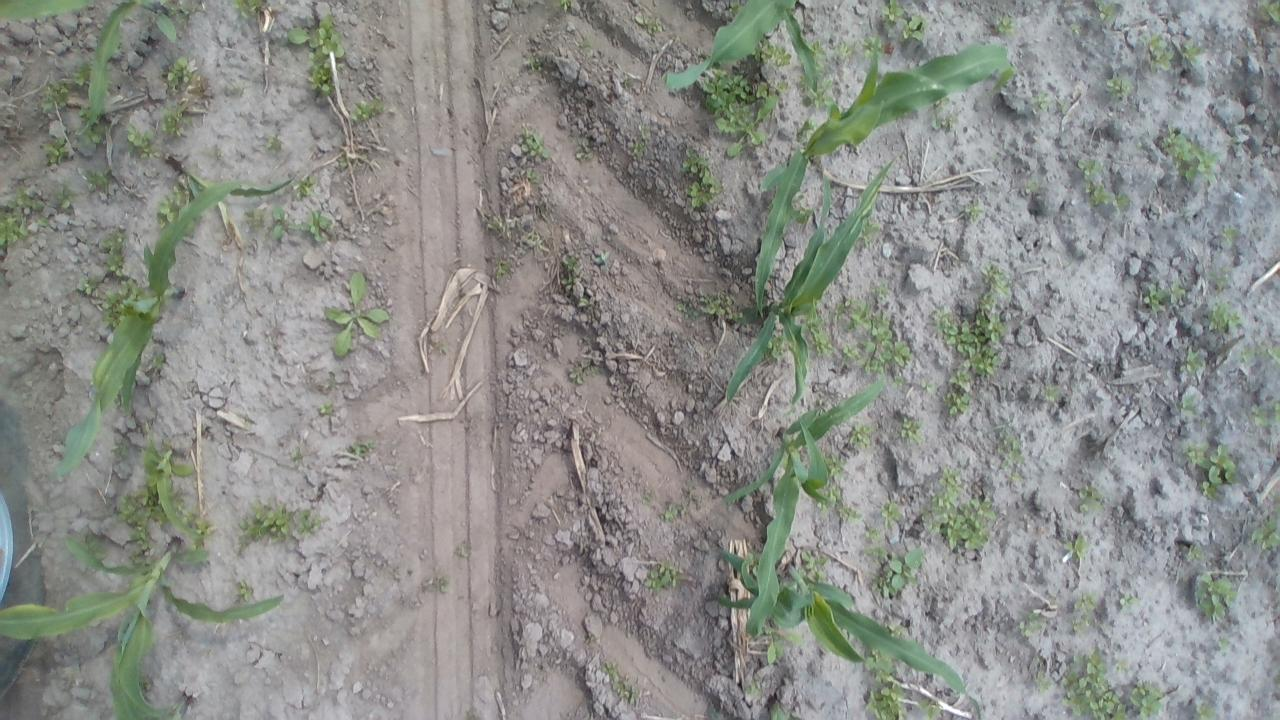Maize: (749, 42, 1014, 320), (58, 182, 293, 475), (708, 546, 982, 720), (0, 536, 286, 702), (724, 160, 896, 410), (720, 380, 885, 638), (0, 0, 178, 127), (662, 0, 824, 96), (166, 154, 247, 308), (146, 446, 203, 542), (114, 678, 194, 720)
Weeds: (934, 264, 1004, 414), (832, 282, 912, 374), (326, 272, 390, 360), (1064, 652, 1128, 719), (108, 491, 164, 562), (100, 227, 138, 321), (238, 502, 326, 539), (716, 103, 772, 158), (920, 467, 964, 533), (1162, 132, 1220, 182), (946, 499, 996, 553), (872, 548, 924, 598), (704, 70, 774, 106), (1078, 156, 1128, 206), (288, 15, 344, 58), (1194, 574, 1236, 626), (998, 422, 1029, 481), (676, 292, 736, 320), (1068, 592, 1102, 634), (805, 300, 831, 352), (1206, 444, 1238, 486), (684, 174, 722, 209), (827, 484, 863, 520), (866, 686, 902, 718), (932, 108, 969, 138), (154, 190, 183, 228), (766, 632, 800, 664), (0, 210, 29, 247), (1130, 683, 1163, 715), (1250, 518, 1279, 554), (309, 58, 335, 96), (799, 550, 830, 581), (83, 162, 113, 194), (271, 206, 299, 239), (38, 83, 69, 112), (1206, 304, 1240, 330), (805, 80, 834, 110), (1222, 225, 1244, 264), (646, 564, 676, 592), (300, 212, 328, 242), (1102, 71, 1130, 101), (755, 42, 791, 65), (125, 124, 154, 152), (1076, 483, 1104, 512), (568, 358, 600, 383), (864, 652, 891, 681), (1146, 36, 1172, 66), (1249, 401, 1280, 426), (523, 134, 549, 163), (352, 100, 384, 122), (558, 253, 575, 294), (160, 105, 184, 134), (1195, 150, 1224, 174), (1020, 611, 1046, 637), (41, 138, 66, 165), (245, 208, 269, 236), (680, 148, 708, 172), (861, 219, 882, 250), (848, 422, 874, 447), (1202, 268, 1230, 290), (900, 17, 925, 40), (1062, 534, 1088, 556), (898, 417, 924, 439), (1144, 284, 1164, 312), (636, 12, 664, 32), (1180, 38, 1202, 63), (234, 578, 255, 604), (168, 57, 188, 84), (235, 0, 268, 16), (1034, 670, 1055, 695), (68, 61, 88, 86), (881, 501, 904, 522), (614, 680, 638, 700), (111, 438, 131, 462), (862, 520, 882, 544), (1186, 346, 1205, 371), (7, 194, 36, 210), (1258, 0, 1280, 21), (77, 276, 100, 296), (879, 1, 902, 20), (54, 188, 72, 212), (84, 532, 105, 552), (768, 341, 788, 362), (429, 574, 452, 592), (1170, 278, 1186, 303), (267, 134, 287, 154), (1186, 541, 1205, 562), (921, 697, 940, 717), (298, 176, 314, 199), (827, 455, 846, 474), (834, 43, 854, 61), (633, 135, 653, 153), (83, 128, 102, 146), (1041, 383, 1060, 401), (574, 139, 592, 158), (1096, 1, 1114, 20), (148, 352, 165, 372), (964, 204, 984, 221), (994, 16, 1014, 33), (1180, 393, 1196, 414), (1026, 173, 1040, 195), (662, 504, 680, 520), (604, 662, 620, 680), (350, 441, 372, 454), (590, 249, 608, 264), (1201, 480, 1215, 499), (319, 402, 336, 417), (1189, 450, 1205, 465), (456, 540, 469, 558), (1038, 96, 1053, 111), (1196, 704, 1210, 720), (289, 446, 303, 462), (866, 36, 881, 50), (812, 40, 824, 55), (1118, 596, 1136, 604), (577, 298, 589, 308), (560, 0, 570, 10)
